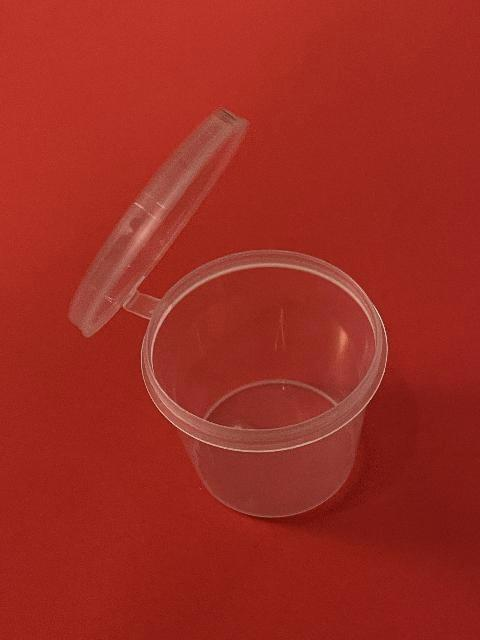plasticcontainer: (65, 104, 391, 524)
